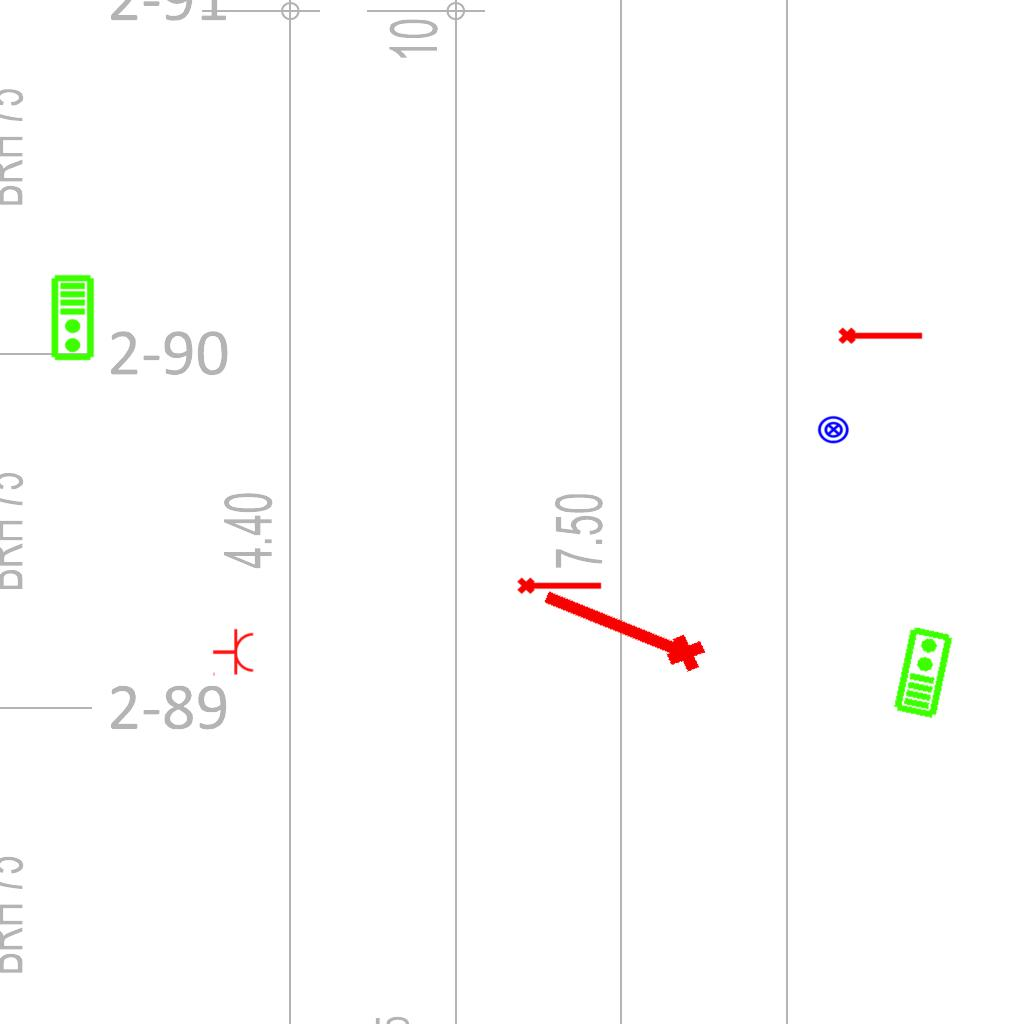ASR_Ansaugoeffnung: (531, 575, 713, 685), (837, 323, 925, 346), (516, 573, 604, 596)
Gegensprechanlage_mit_Video: (890, 624, 955, 720), (50, 274, 97, 362)
Schukosteckdose_einfach: (212, 628, 255, 678)
Taster_beleuchtet: (817, 413, 850, 446)
